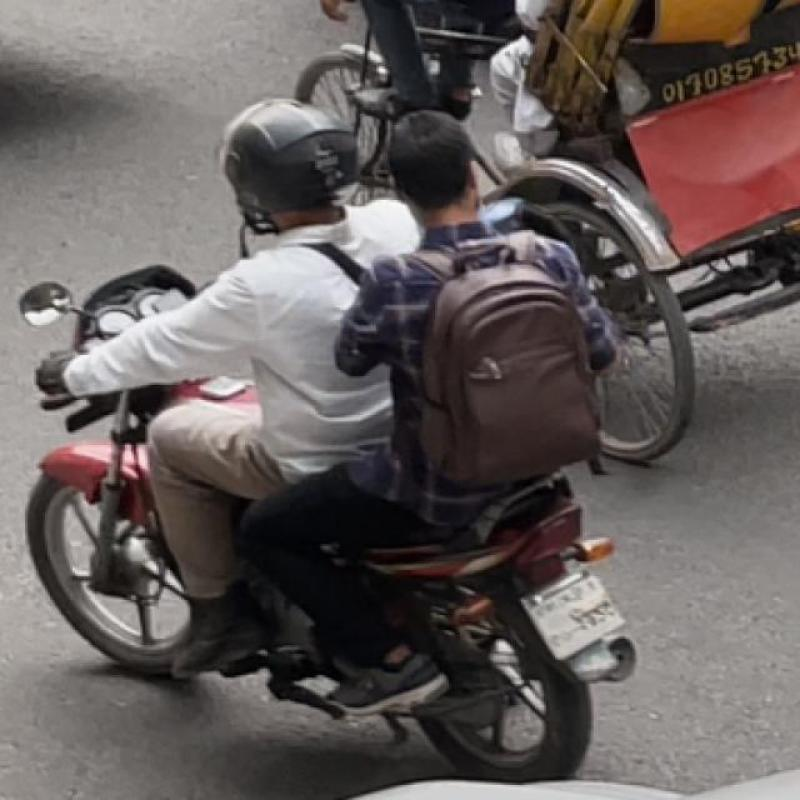nohelmet: (381, 110, 490, 230)
